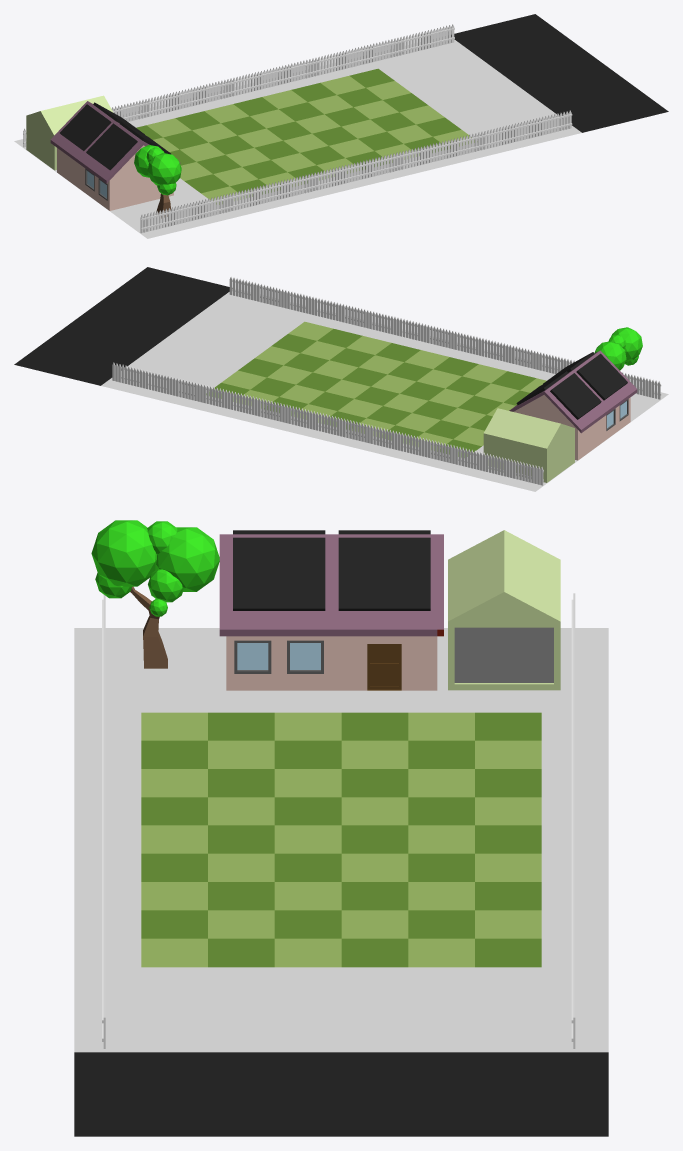
File: PvZ House.fbx
The picture shows the model from 3 angles, top to bottom: view 1: azimuth 30°, elevation 25°; view 2: azimuth 150°, elevation 25°; view 3: azimuth 270°, elevation 25°; orthographic projection. The views are drawn at different scales.
Visible parts, largest first — view 1: Ground, Fence, Cube, Tree; view 2: Ground, Fence, Cube, Tree; view 3: Ground, Cube, Tree, Fence.
Boxes of the visible parts, <box> form: Ground: <box>14,14,668,238</box>; Fence: <box>23,24,572,233</box>; Cube: <box>26,95,180,210</box>; Tree: <box>134,145,181,218</box>; Ground: <box>14,267,668,491</box>; Fence: <box>112,276,661,485</box>; Cube: <box>483,350,637,482</box>; Tree: <box>594,327,642,370</box>; Ground: <box>74,628,608,1136</box>; Cube: <box>219,530,560,690</box>; Tree: <box>91,520,219,668</box>; Fence: <box>102,593,575,1048</box>.
Size of the model in its own units: 9098 by 1123 by 4000.
